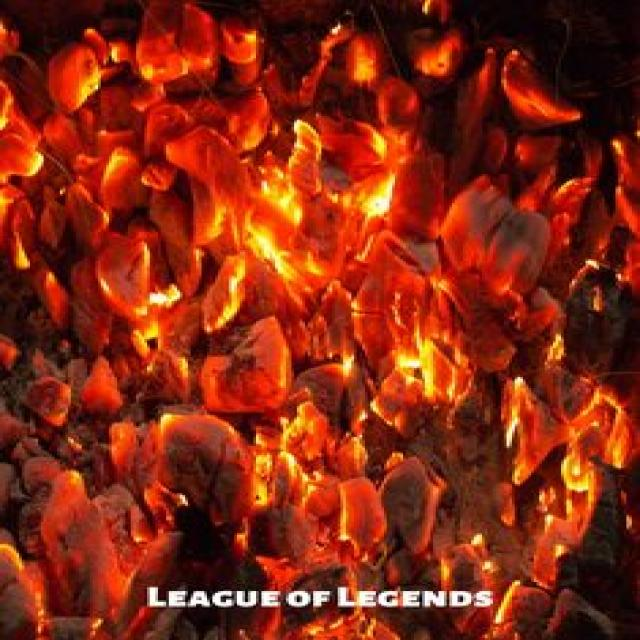Fire: (5, 0, 638, 635)
